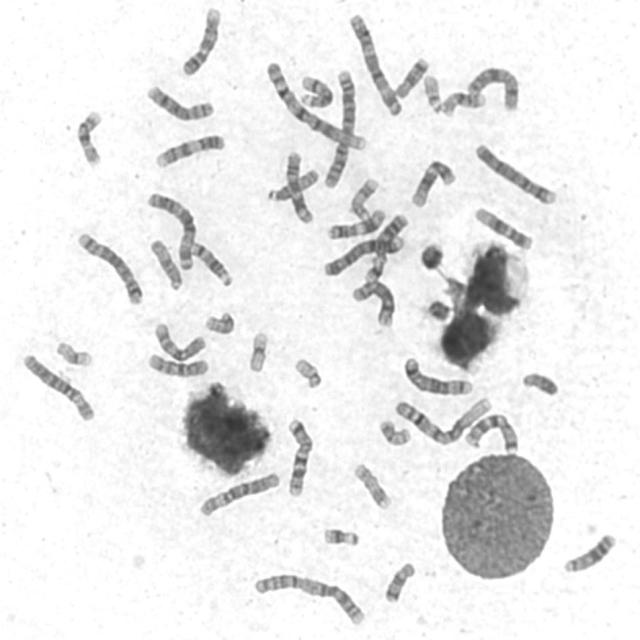A1: (262, 56, 367, 152), (390, 391, 494, 447)
A2: (249, 569, 368, 627), (320, 66, 358, 190)
A3: (346, 9, 404, 117), (144, 189, 198, 272)
B4: (471, 139, 559, 207), (320, 232, 407, 279)
B5: (73, 228, 145, 307), (400, 354, 474, 397)
C10: (150, 317, 208, 363), (144, 350, 210, 379)
C11: (282, 147, 316, 225), (323, 206, 388, 240)
C12: (470, 204, 534, 252), (408, 155, 458, 209)
C6: (19, 349, 97, 423), (194, 468, 282, 520)
C7: (282, 414, 316, 499), (461, 410, 521, 455)
C8: (142, 81, 216, 123), (348, 276, 397, 330)
C9: (178, 3, 223, 77), (152, 130, 228, 171)
D13: (559, 529, 618, 575), (347, 254, 390, 305)
D14: (188, 238, 235, 289), (297, 72, 335, 109)
D15: (264, 164, 320, 204), (147, 236, 184, 292)
E16: (72, 106, 105, 169), (438, 87, 487, 118)
E17: (351, 460, 394, 511), (345, 174, 380, 220)
E18: (391, 53, 431, 100), (380, 558, 418, 604)
F19: (52, 337, 95, 368), (245, 328, 271, 374)
F20: (375, 416, 413, 447), (202, 309, 236, 336)
G21: (373, 212, 412, 252), (320, 524, 361, 550)
G22: (290, 354, 324, 390), (420, 70, 444, 114)
X: (464, 63, 521, 114)
Y: (519, 368, 560, 398)
